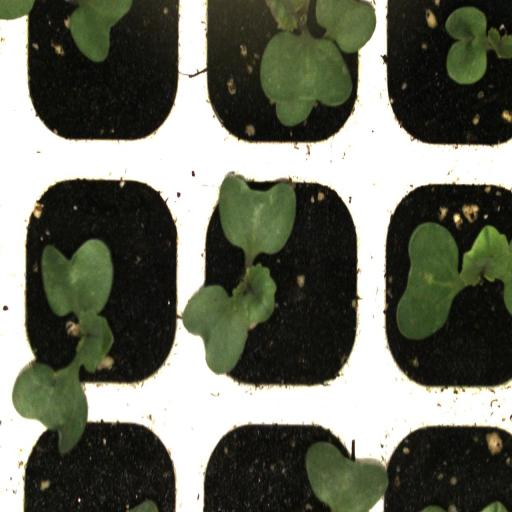Folha: (305, 441, 389, 512), (445, 6, 512, 85), (69, 0, 134, 63)
Germinacao: (184, 159, 371, 404), (0, 157, 182, 405), (371, 157, 512, 401), (183, 0, 373, 164), (372, 2, 512, 173)
